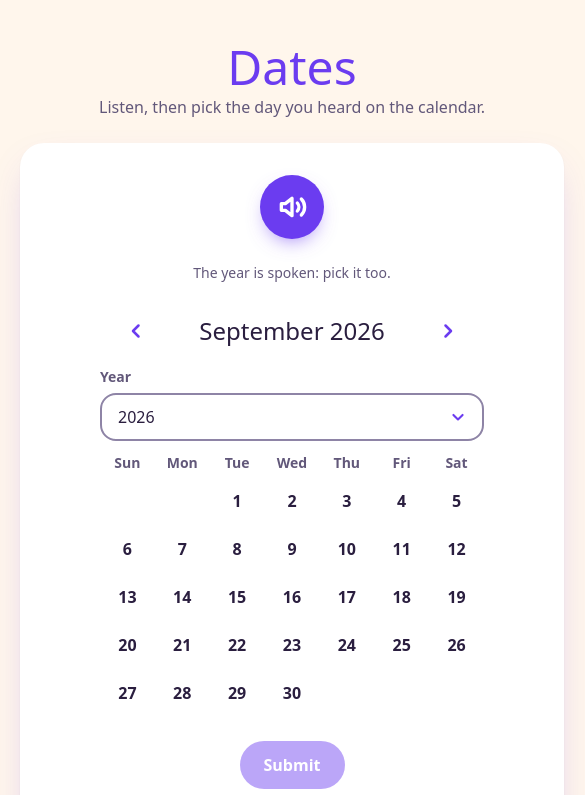
Test: a dated pick is sent with a 1-based month
Click the button named "21 September 2026". click: click(182, 645)
box: [160,623,204,667]
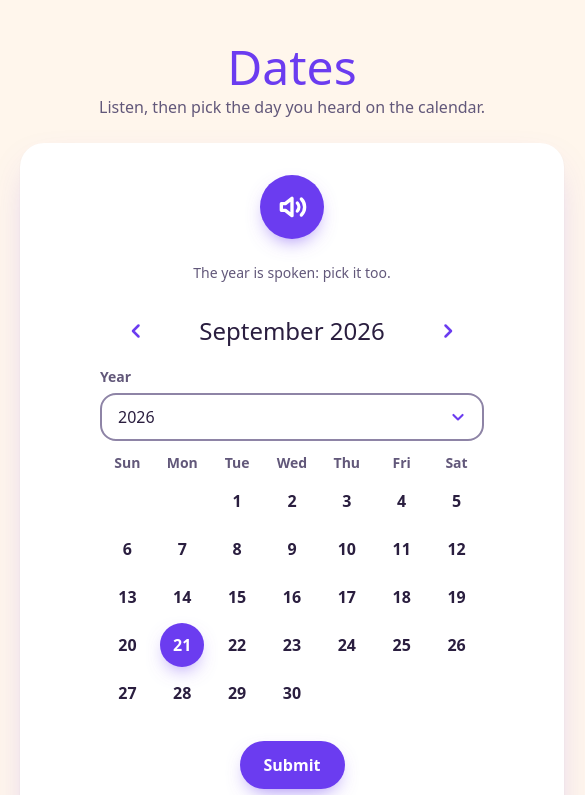
Click the button "Submit". click: click(292, 765)
box: [240,741,344,789]
(page scrolled)
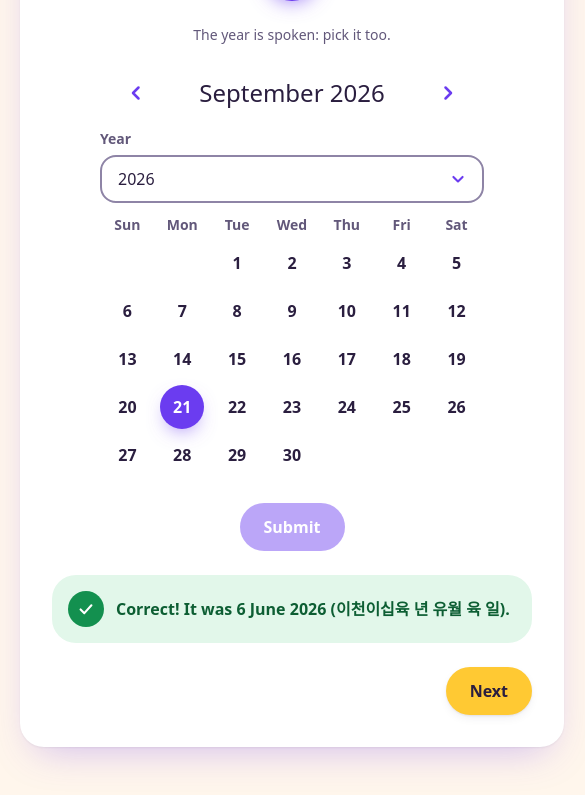
Now the message "Correct! It was 6 June 2026 (이천이십육 년 유월 육 일)." is shown, box [52,575,532,643]
